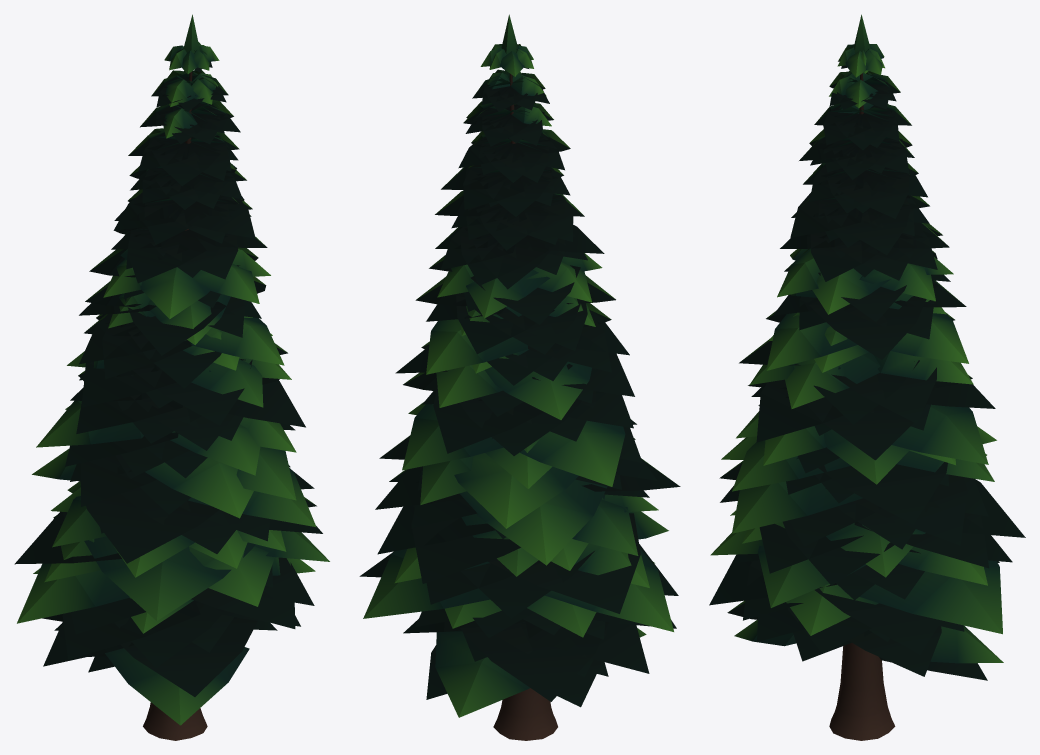
Rendered from sitka-spruce-c.glb.
3 views of the same model, side by side, from view 1: azimuth 30°, elevation 25°; view 2: azimuth 150°, elevation 25°; view 3: azimuth 270°, elevation 25° (orthographic).
Parts seen in each view (by area): view 1: sitka-spruce-c.Leaves, sitka-spruce-c.Bark; view 2: sitka-spruce-c.Leaves, sitka-spruce-c.Bark; view 3: sitka-spruce-c.Leaves, sitka-spruce-c.Bark.
Part boxes in pixels (bbox=[...]): sitka-spruce-c.Leaves: bbox=[14, 14, 329, 725]; sitka-spruce-c.Bark: bbox=[143, 71, 207, 740]; sitka-spruce-c.Leaves: bbox=[359, 14, 680, 717]; sitka-spruce-c.Bark: bbox=[493, 73, 557, 740]; sitka-spruce-c.Leaves: bbox=[709, 14, 1025, 680]; sitka-spruce-c.Bark: bbox=[829, 73, 895, 740].
Bounding box in the file's own units: 6.89 × 16 × 6.37.
